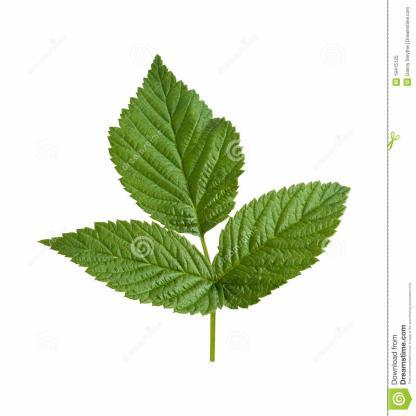Raspberry leaf: (104, 52, 246, 236), (209, 178, 352, 312), (34, 220, 212, 313)
